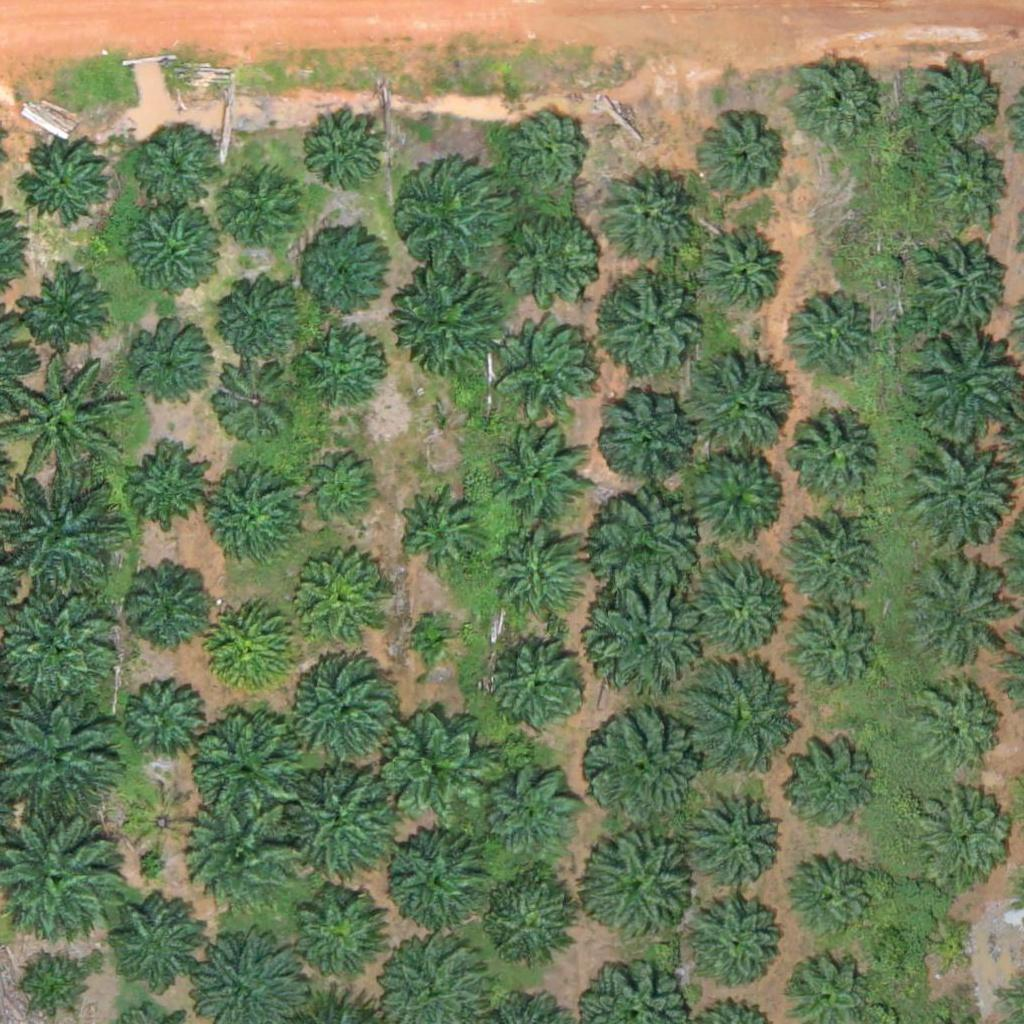Kelapa_Sawit: (177, 792, 302, 918), (283, 648, 408, 774), (280, 764, 405, 890), (375, 704, 500, 830), (392, 154, 517, 280), (686, 659, 799, 772), (584, 586, 697, 699), (905, 331, 1017, 445), (190, 706, 302, 820), (680, 347, 792, 460), (597, 275, 709, 388), (590, 494, 702, 607), (900, 563, 1000, 664), (776, 291, 876, 392), (781, 512, 881, 613), (782, 601, 882, 702), (691, 553, 791, 654), (683, 445, 783, 546), (599, 167, 699, 268), (586, 710, 686, 811), (292, 886, 392, 987), (385, 831, 485, 932), (480, 769, 580, 870), (491, 634, 591, 735), (491, 530, 591, 631), (486, 424, 586, 525), (501, 321, 601, 422), (404, 272, 504, 373), (909, 783, 1009, 883), (904, 450, 1004, 550), (909, 234, 1009, 334), (785, 406, 885, 506), (595, 387, 695, 487), (103, 890, 203, 990), (208, 472, 308, 572), (505, 199, 605, 299), (592, 832, 692, 932), (909, 681, 997, 769), (789, 56, 877, 144), (693, 795, 781, 883), (692, 227, 780, 315), (126, 211, 214, 299), (131, 326, 219, 414), (119, 438, 207, 526), (123, 555, 211, 643), (209, 603, 297, 691), (295, 561, 383, 649), (493, 883, 581, 971), (23, 264, 110, 353), (297, 227, 384, 316), (790, 847, 877, 936), (129, 119, 216, 207), (216, 273, 303, 361), (927, 142, 1014, 230), (915, 59, 1002, 147), (786, 740, 873, 828), (702, 116, 789, 204), (18, 135, 105, 223), (122, 674, 209, 762), (211, 354, 298, 442), (219, 165, 306, 253), (305, 108, 392, 196), (302, 335, 389, 423), (506, 112, 593, 200), (696, 903, 783, 991), (396, 485, 483, 573), (307, 451, 382, 526), (129, 787, 191, 850), (409, 610, 459, 660), (920, 928, 970, 978)
